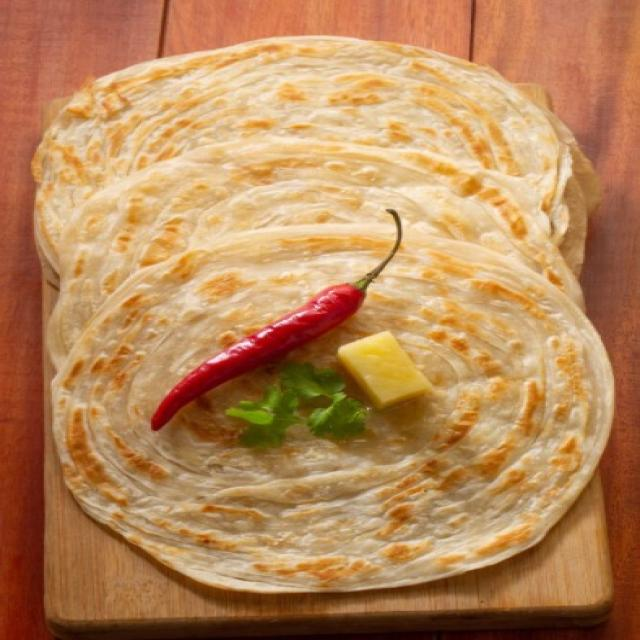PAROTTA: (29, 32, 619, 597)
